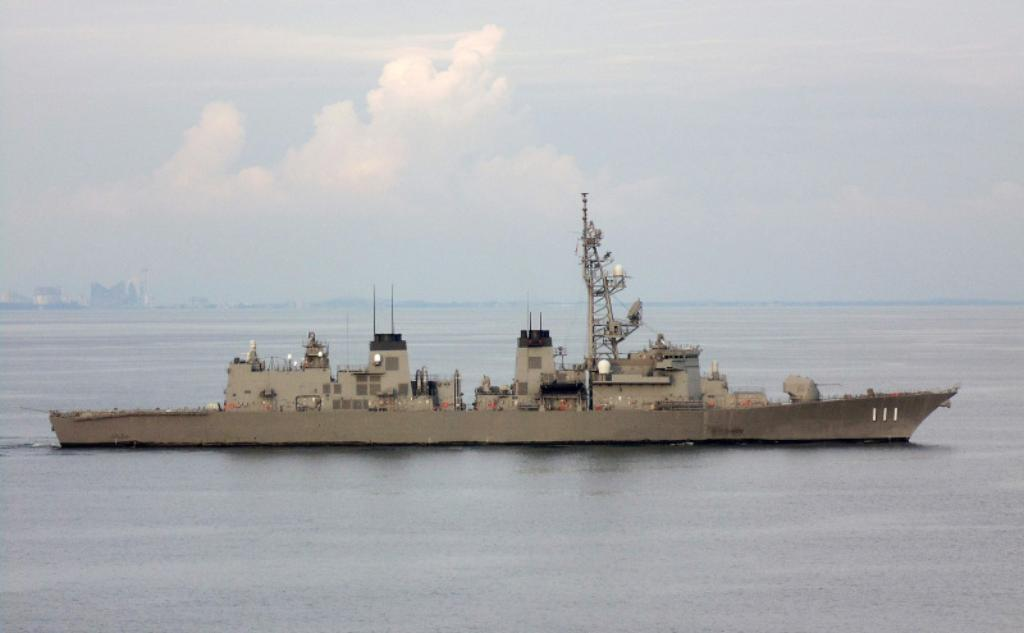Warship: (44, 191, 962, 452)
